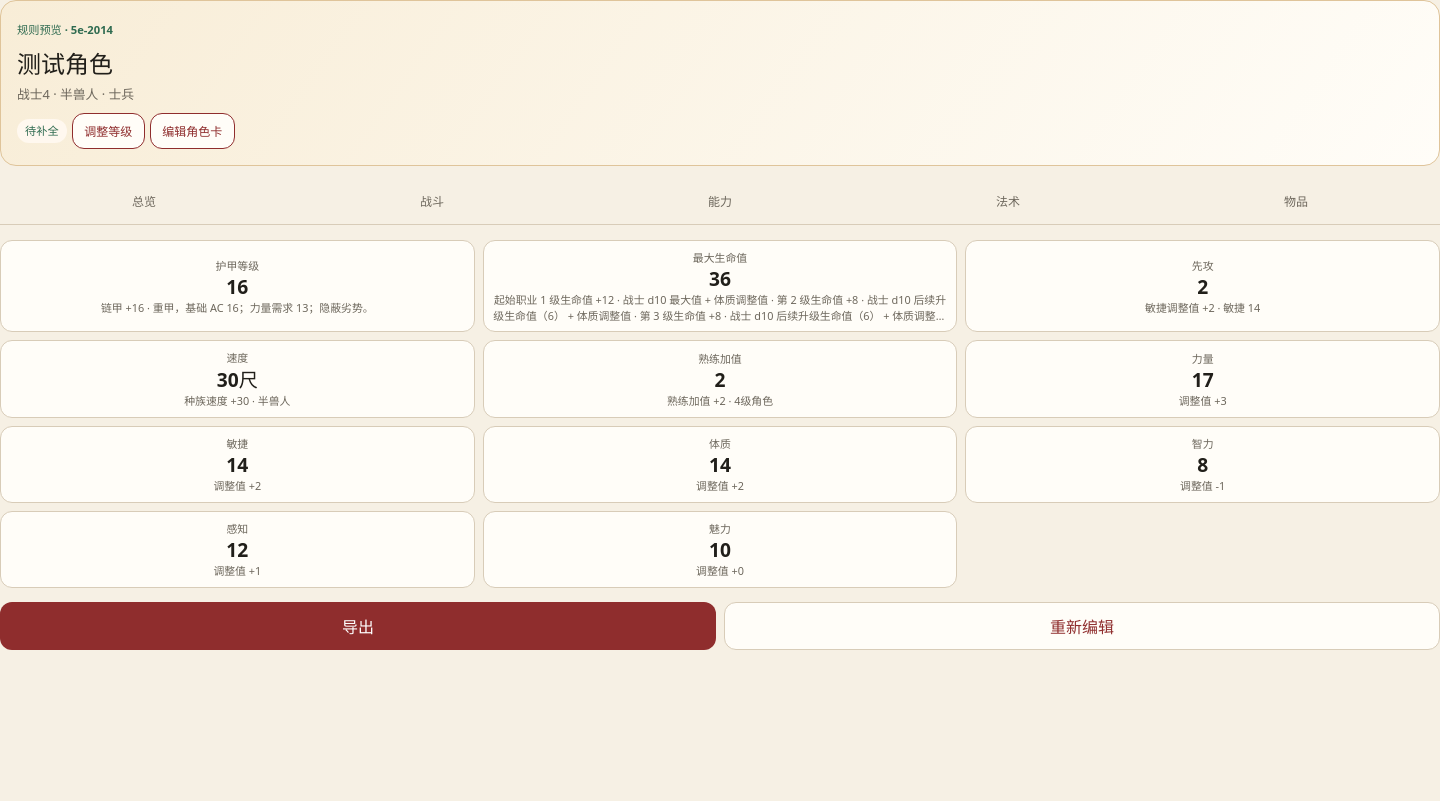
CharacterSheetStep 物品数量调整 › adventure 条目显示调整入口，起始装备条目只显示来源徽标
Click the tab "物品" at (1296, 202), box [1152, 180, 1439, 224]
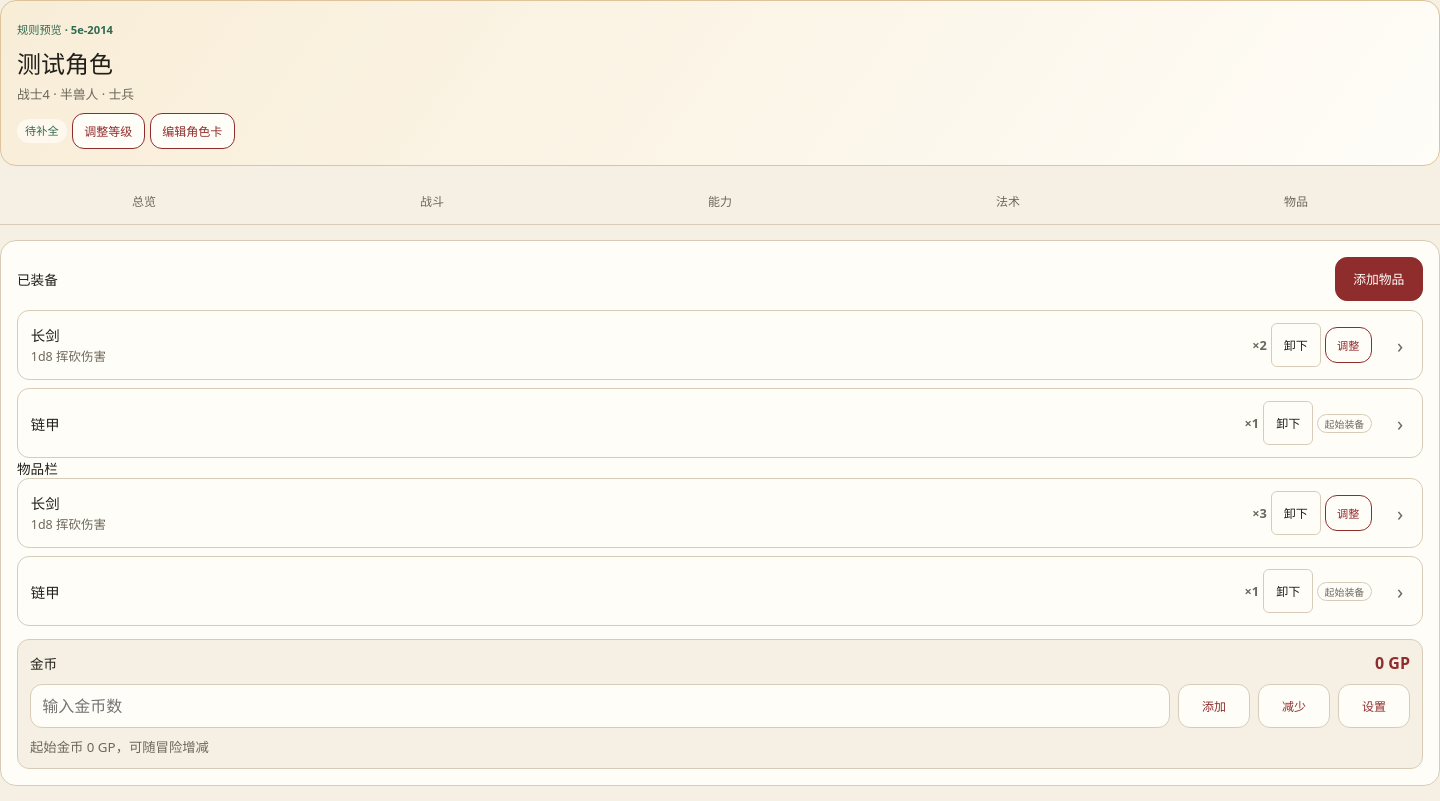
Expected: the button with class "character-sheet__spell-action" in the row of "×2" is shown, [1325, 327, 1372, 363]
Result: the element with class "expandable-option-card" shows "起始装备" at [1325, 417, 1364, 431]
